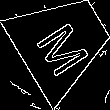M_NE: (31, 9, 95, 75)
